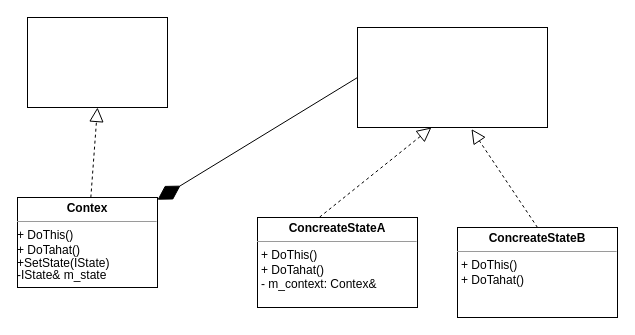
Some shapes in this 635 by 335 pixel diagram are drawn without their labels. The box of each missing label's shape, as (x1, y1, x2, y2) in pixels:
<<Interface>> IState + DoThis() + DoTahat(): (356, 26, 548, 128)
IContex + DoThis() + DoTahat() +SetState(IState): (26, 16, 168, 108)
